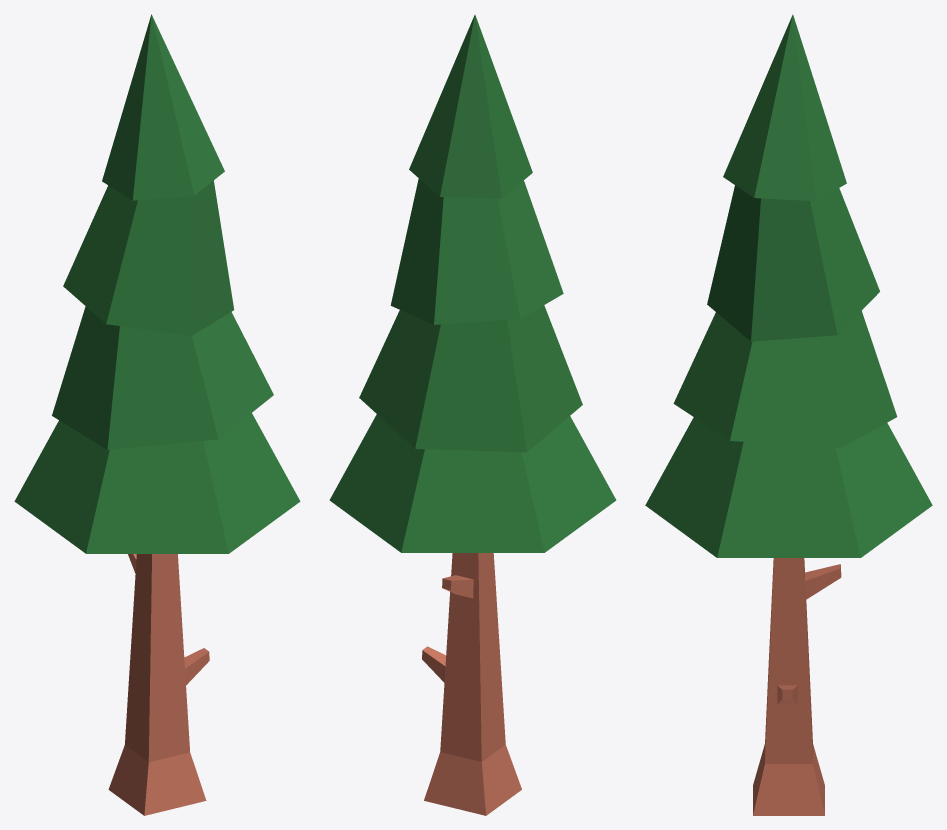
File: tree_pineTallC_detailed.glb
3 renders of one model, left to right at view 1: azimuth 30°, elevation 25°; view 2: azimuth 150°, elevation 25°; view 3: azimuth 270°, elevation 25°, orthographic.
Parts seen in each view (by area): view 1: tree_pineTallC_detailed; view 2: tree_pineTallC_detailed; view 3: tree_pineTallC_detailed.
Boxes of the visible parts, x1,y1,x2,y2 form: tree_pineTallC_detailed: (14,14,300,815); tree_pineTallC_detailed: (329,14,616,815); tree_pineTallC_detailed: (645,14,932,815).
Bounding box in the file's own units: 0.4804 × 1.67 × 0.5547.
